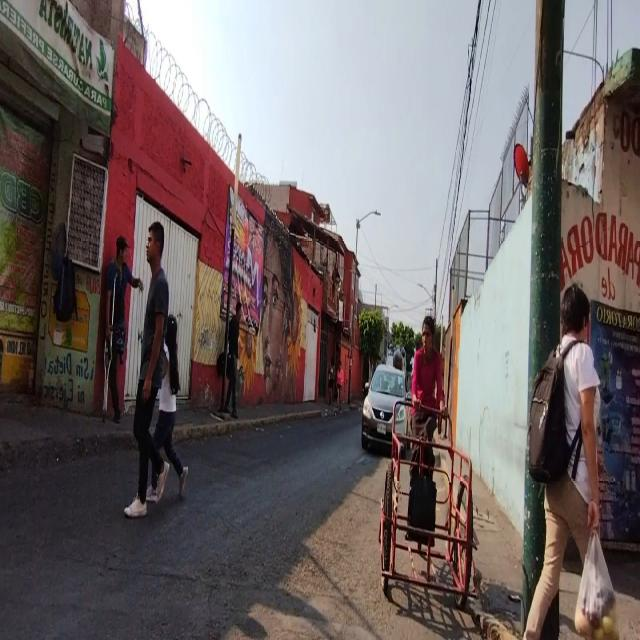adult: (523, 283, 601, 640), (127, 217, 167, 522), (408, 310, 449, 537), (145, 314, 187, 500), (104, 233, 143, 422), (223, 302, 243, 417)
